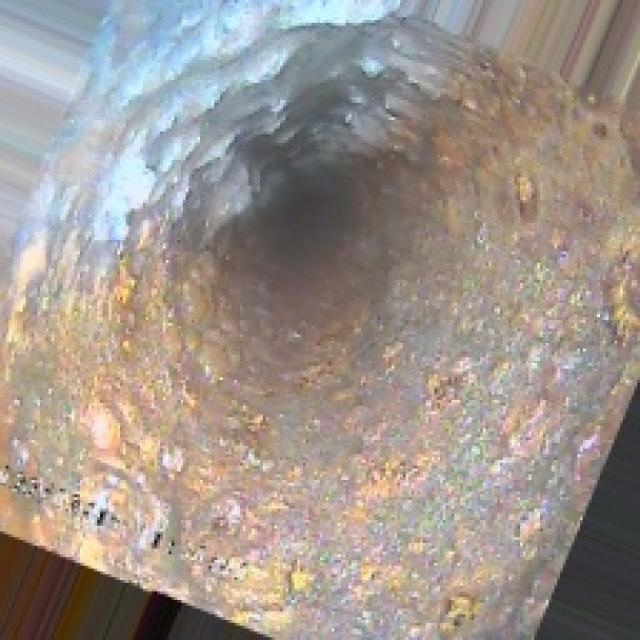encrustation: (91, 17, 566, 466)
